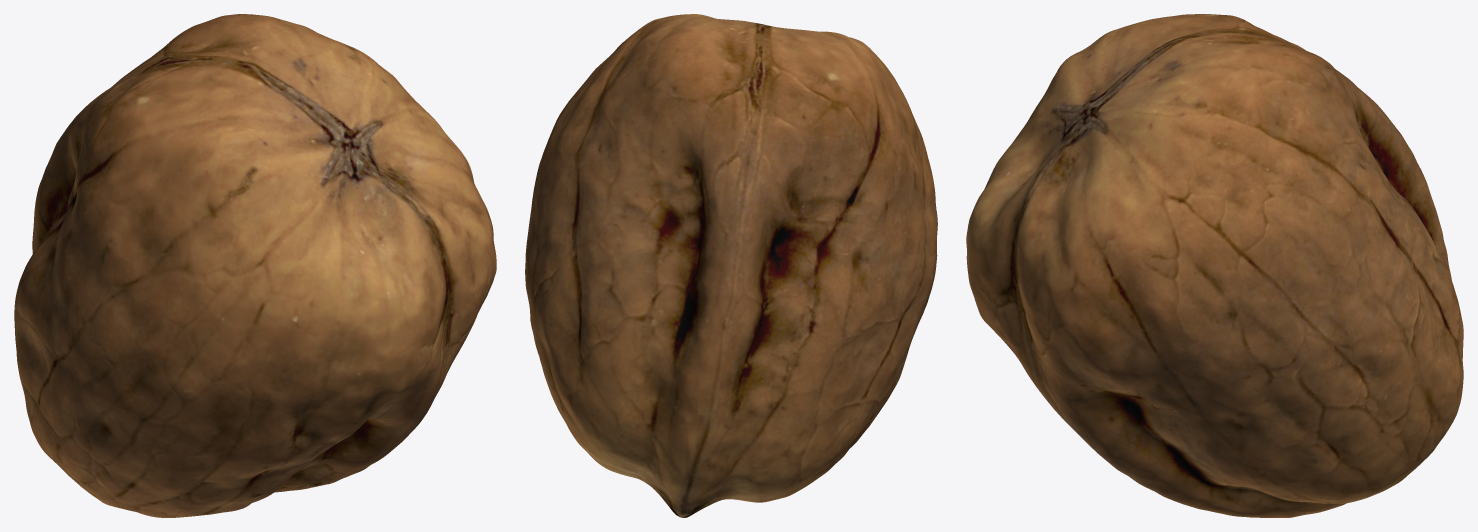
Rendered from nut.gltf.
3 views of the same model, side by side, from view 1: azimuth 30°, elevation 25°; view 2: azimuth 150°, elevation 25°; view 3: azimuth 270°, elevation 25° (orthographic). The views are drawn at different scales.
Parts seen in each view (by area): view 1: walnut; view 2: walnut; view 3: walnut.
Part boxes in pixels (bbox=[...]): walnut: bbox=[14, 14, 496, 517]; walnut: bbox=[525, 14, 937, 517]; walnut: bbox=[966, 14, 1463, 517].
Bounding box in the file's own units: 0.7645 × 0.9046 × 0.8631.
Materials: 1 (1 with a texture image).
